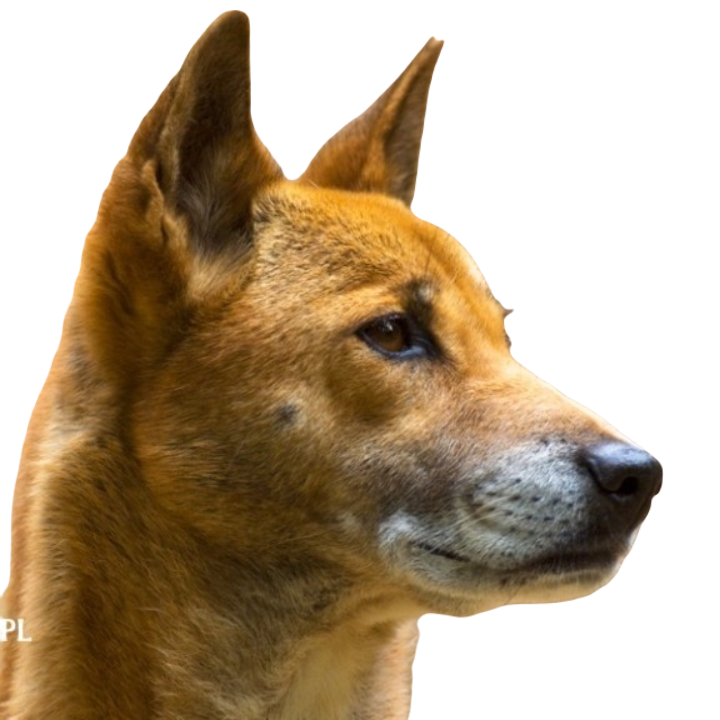Dog: (0, 10, 667, 719)
